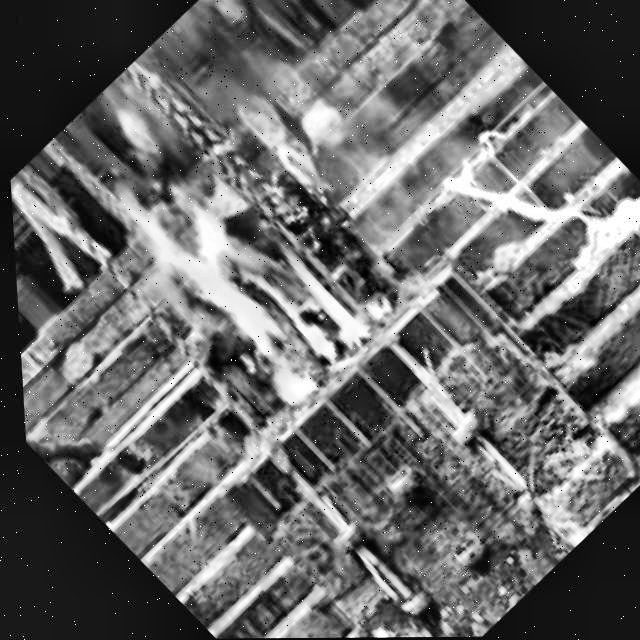Fire: (95, 128, 378, 410)
